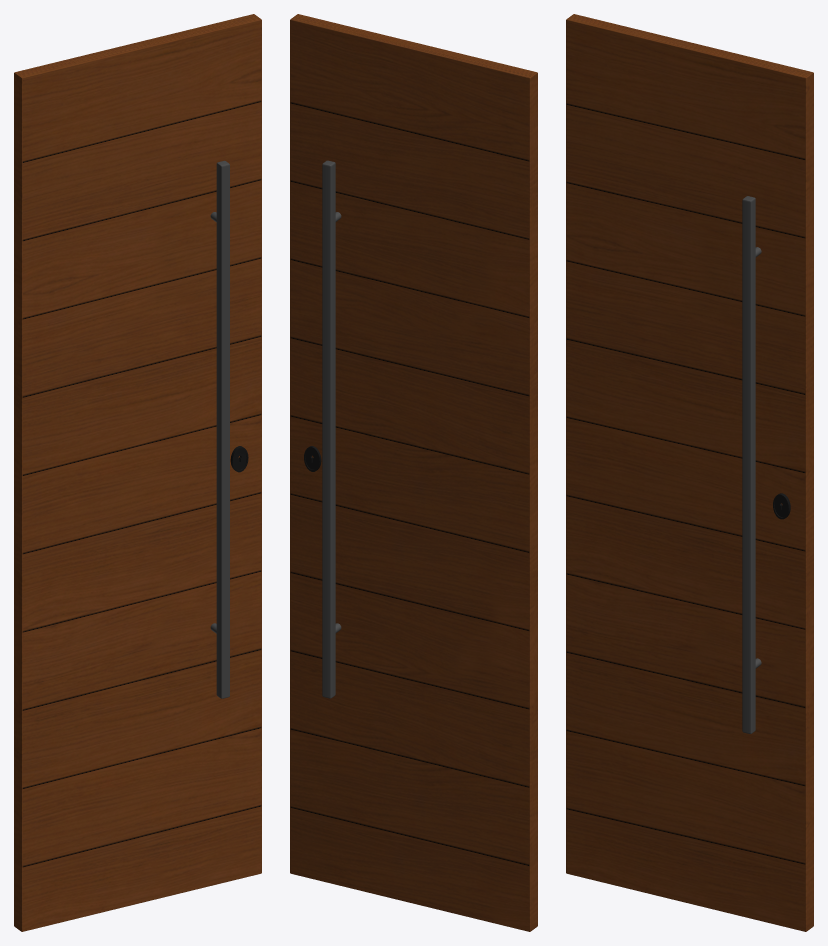
The model's file is V_L_15__half_door.glb.
3 views of the same model, side by side, from view 1: azimuth 30°, elevation 25°; view 2: azimuth 150°, elevation 25°; view 3: azimuth 330°, elevation 25° (orthographic).
Visible parts, largest first — view 1: V_L_15__half_door; view 2: V_L_15__half_door; view 3: V_L_15__half_door.
Boxes of the visible parts, x1,y1,x2,y2 form: V_L_15__half_door: (14,14,261,931); V_L_15__half_door: (290,14,537,931); V_L_15__half_door: (566,14,813,931).
Bounding box in the file's own units: 0.5169 × 1.76 × 0.1166.
Materials: 3 (1 with a texture image).
